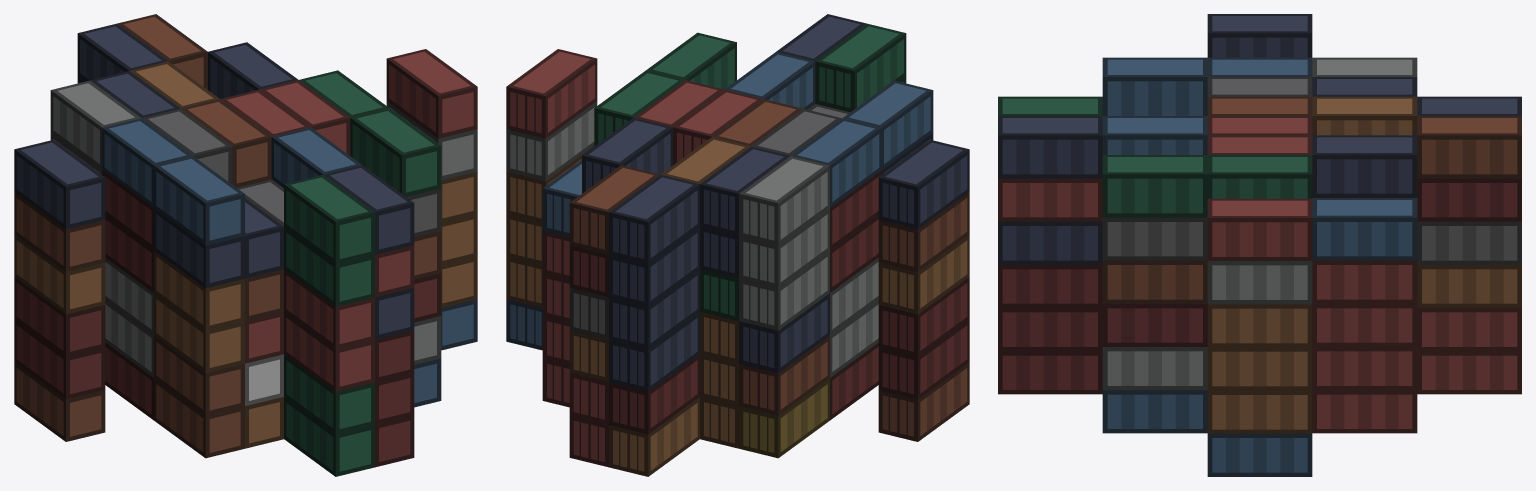
The model's file is heavy-yard-gantry.glb.
3 views of the same model, side by side, from view 1: azimuth 30°, elevation 25°; view 2: azimuth 150°, elevation 25°; view 3: azimuth 270°, elevation 25° (orthographic).
Visible parts, largest first — view 1: heavy-yard-gantry; view 2: heavy-yard-gantry; view 3: heavy-yard-gantry.
Boxes of the visible parts, <box> form: heavy-yard-gantry: <box>14,14,477,476</box>; heavy-yard-gantry: <box>506,14,969,476</box>; heavy-yard-gantry: <box>998,14,1521,476</box>.
Size of the model in its own units: 60.8 by 36 by 66.
